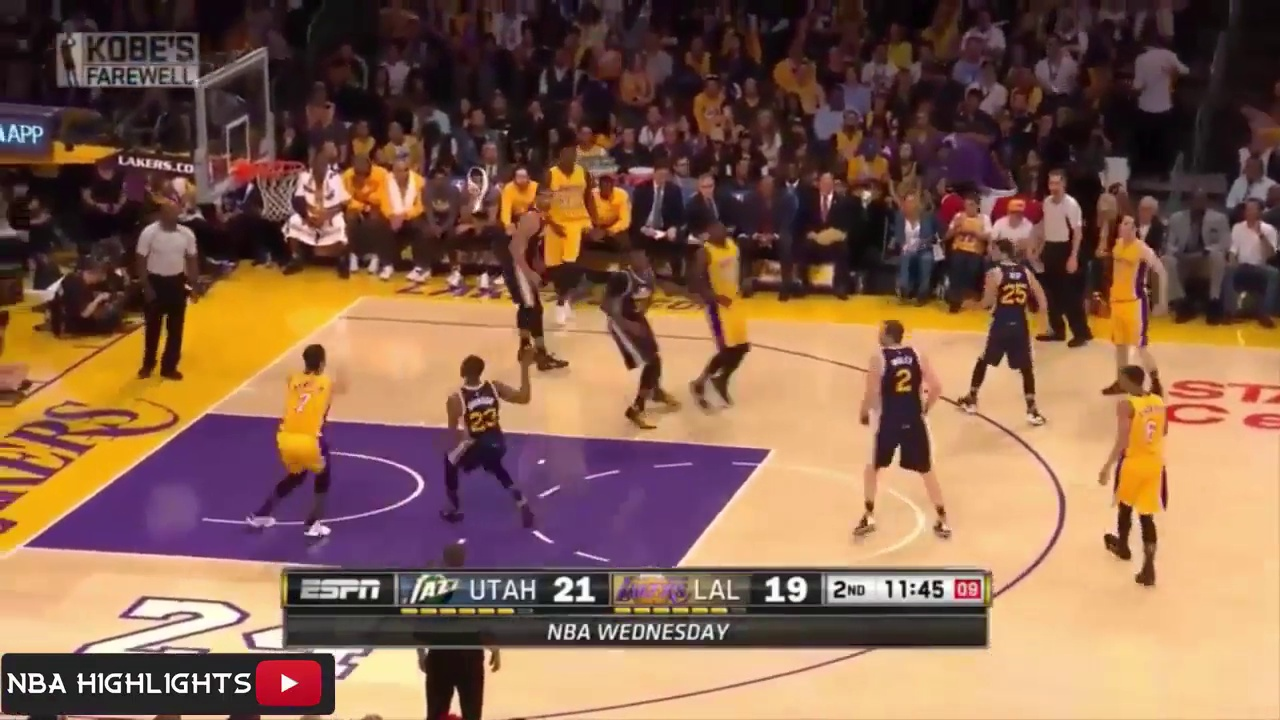jazz: (436, 344, 550, 532), (856, 317, 952, 537), (962, 243, 1047, 425), (498, 191, 571, 373), (610, 249, 684, 424)
lakers: (1094, 362, 1180, 591), (261, 341, 345, 540), (690, 220, 761, 418), (1098, 211, 1171, 395), (542, 141, 598, 323)
